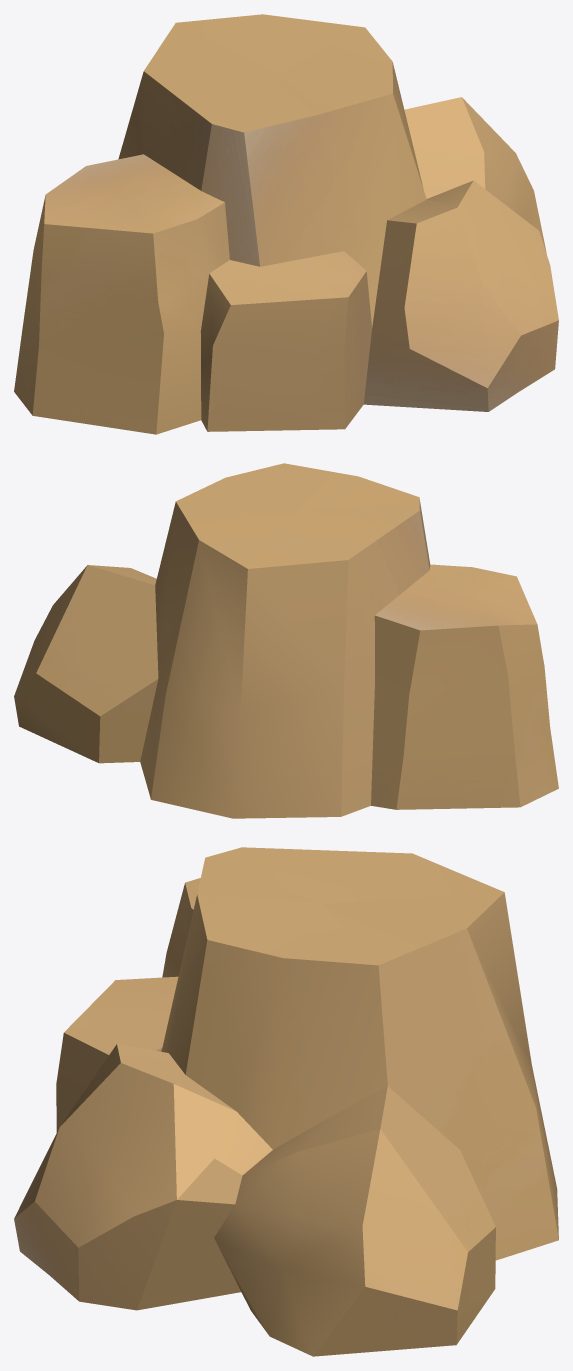
The picture shows the model from 3 angles, top to bottom: view 1: azimuth 30°, elevation 25°; view 2: azimuth 150°, elevation 25°; view 3: azimuth 270°, elevation 25°; orthographic projection. The views are drawn at different scales.
Visible parts, largest first — view 1: yanshi_02; view 2: yanshi_02; view 3: yanshi_02.
Boxes of the visible parts, x1=… form: yanshi_02: x1=14, y1=14, x2=558, y2=434; yanshi_02: x1=14, y1=463, x2=558, y2=818; yanshi_02: x1=14, y1=847, x2=558, y2=1356.
Size of the model in its own units: 3.48 by 1.62 by 2.62.
1 material, 1 textured.
